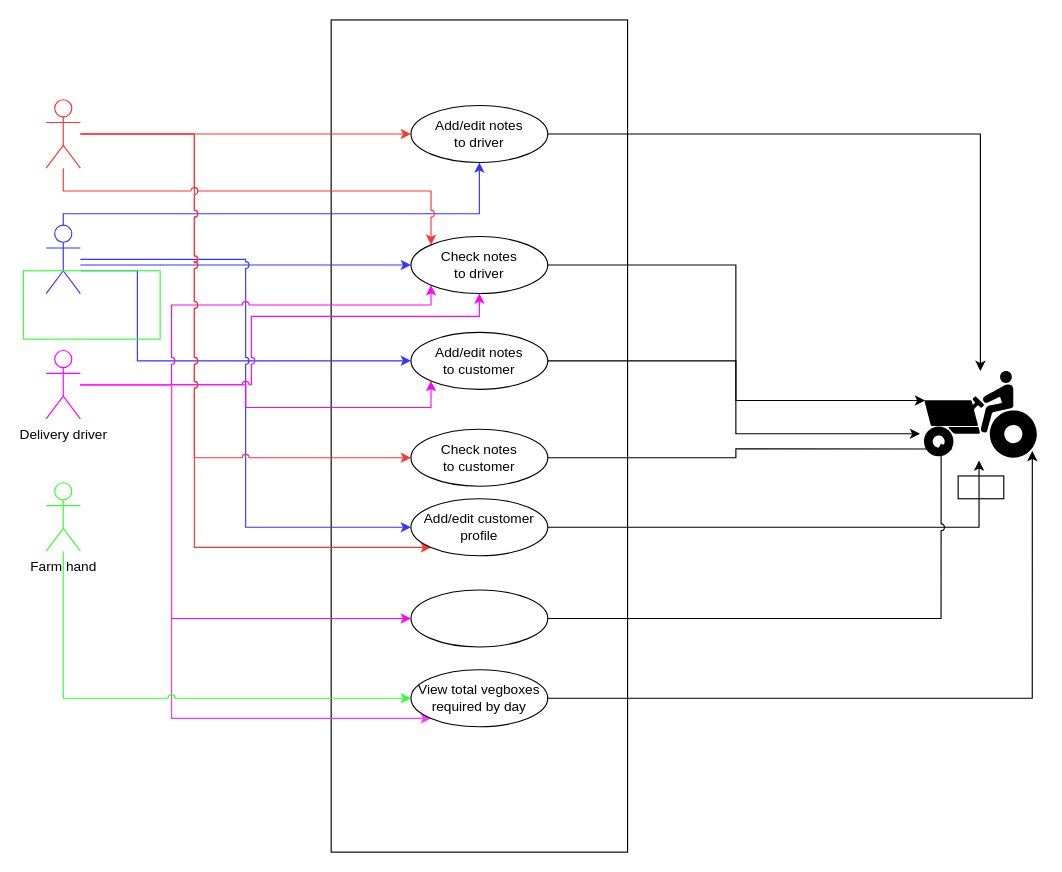
Some shapes in this 1062 by 872 pixel diagram are drawn without their labels. The shapes that lost their labels are listed below. From the top down, each one's box as (x1, y1, x2, y2) in pixels, then its label:
(45, 99, 80, 168): Customer
(45, 224, 80, 294): Admin
(957, 475, 1004, 499): Farm
(410, 589, 548, 647): View customer address
